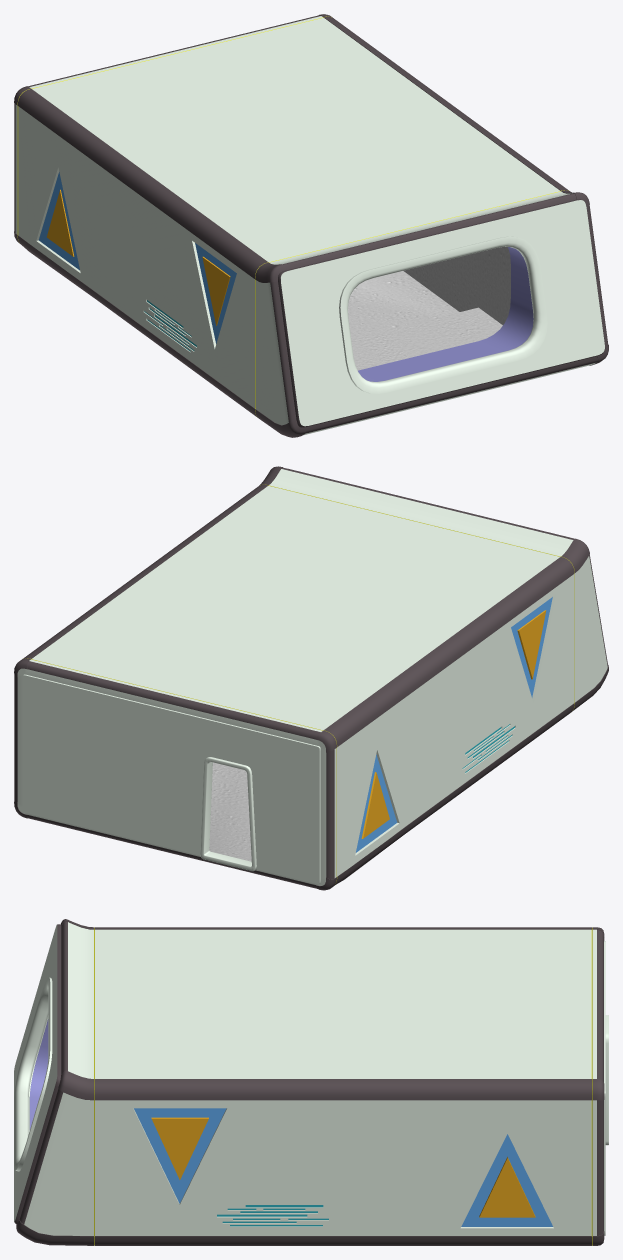
3 views of the same model, one above another, from view 1: azimuth 30°, elevation 25°; view 2: azimuth 150°, elevation 25°; view 3: azimuth 270°, elevation 25° (orthographic). The views are drawn at different scales.
Visible parts, largest first — view 1: Wall_Shell, WallA; view 2: Wall_Shell, WallA, Object057; view 3: Wall_Shell, Object057.
Part boxes in pixels (x1,y1,x2,y2): Wall_Shell: (14,14,608,437); WallA: (348,246,510,370); Wall_Shell: (14,466,608,890); WallA: (209,762,251,861); Object057: (200,757,256,871); Wall_Shell: (14,919,605,1245); Object057: (605,1015,608,1145).
Bounding box in the file's own units: 7978 × 3937 × 12264.
